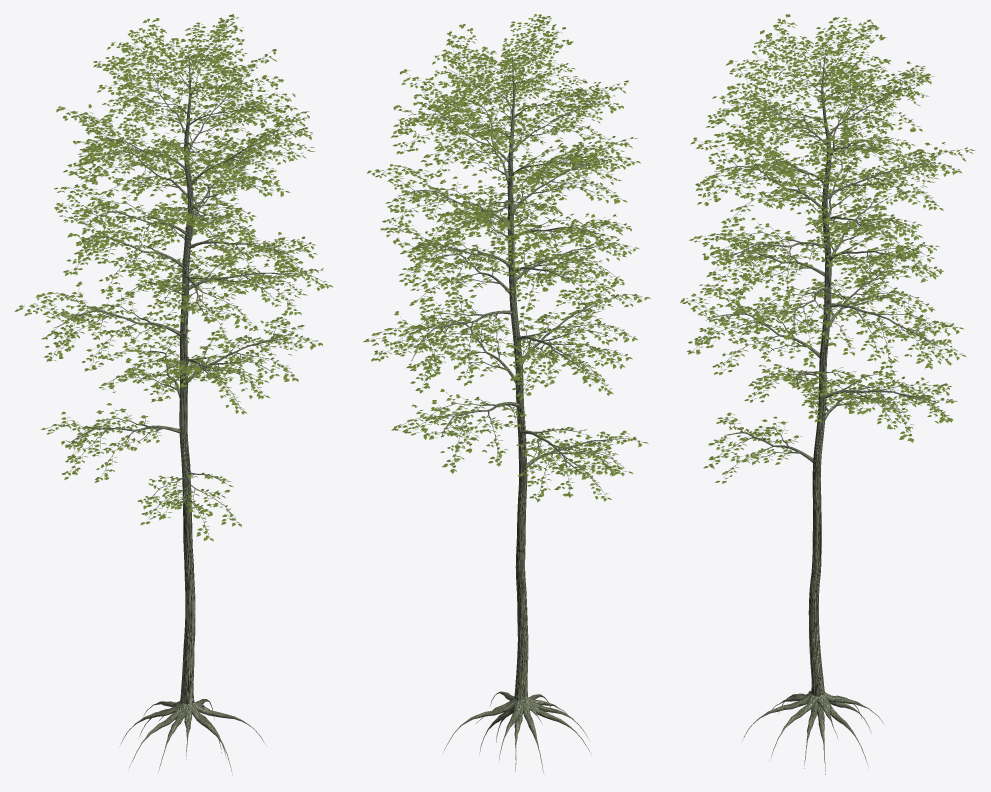
3 renders of one model, left to right at view 1: azimuth 30°, elevation 25°; view 2: azimuth 150°, elevation 25°; view 3: azimuth 270°, elevation 25°, orthographic.
Visible parts, largest first — view 1: Beech_Large_01.Shape; view 2: Beech_Large_01.Shape; view 3: Beech_Large_01.Shape.
Part boxes in pixels (left/top/right/bottom): Beech_Large_01.Shape: left=14, top=14, right=333, bottom=774; Beech_Large_01.Shape: left=363, top=14, right=650, bottom=772; Beech_Large_01.Shape: left=680, top=14, right=975, bottom=774.
Size of the model in its own units: 4.93 by 14.08 by 5.13.
2 materials, 2 textured.
